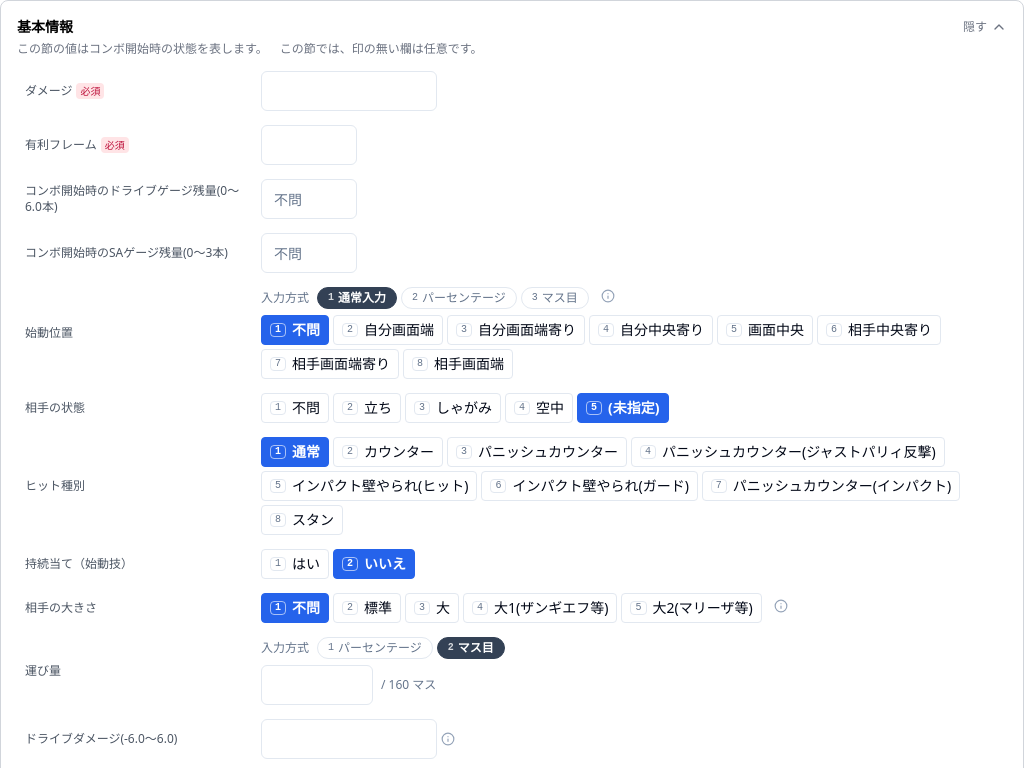
Test: M27-01 相手の大きさの注意書き(InfoMark) › ⓘ が在り、クリックすると『タグかメモ』の案内が出る
What coordinates should you click on to do the following:
click the button with test id "info-mark-opponent-size"
I would click on:
 (781, 606)
Its box is [774, 599, 788, 613].
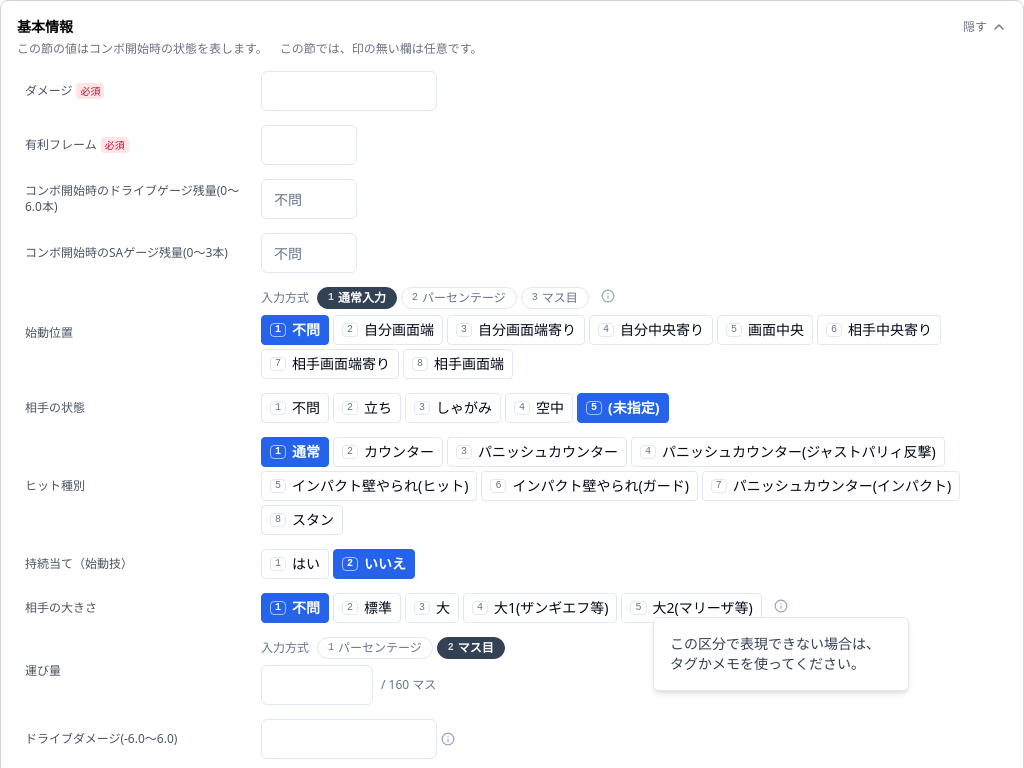
Expected: the text with test id "info-mark-opponent-size-content" shows "タグかメモ", [670, 634, 880, 673]
